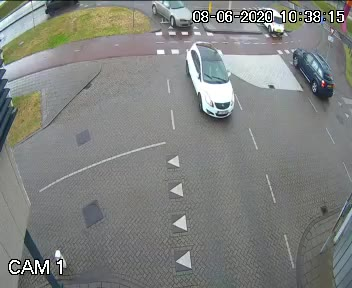car: (178, 38, 245, 124), (285, 42, 342, 96), (151, 0, 197, 32), (254, 9, 286, 36), (42, 0, 80, 16)
